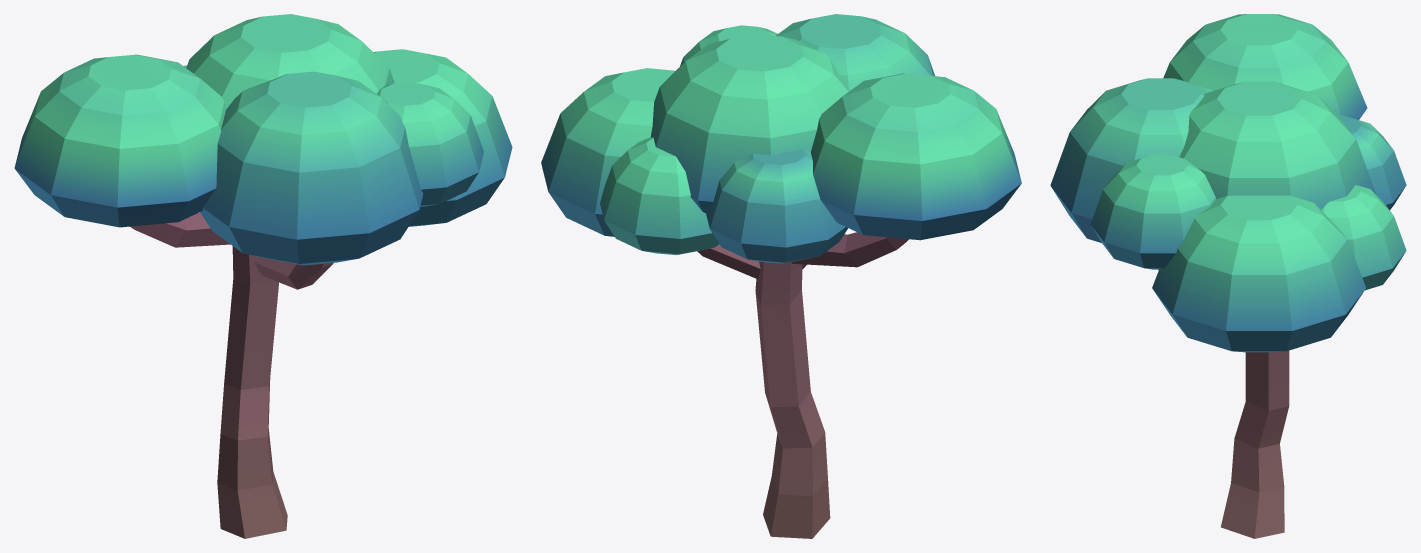
Rendered from pretty_big_tree_5.gltf.
The picture shows the model from 3 angles, left to right: view 1: azimuth 30°, elevation 25°; view 2: azimuth 150°, elevation 25°; view 3: azimuth 270°, elevation 25°; orthographic projection. The views are drawn at different scales.
Parts seen in each view (by area): view 1: Object_1; view 2: Object_1; view 3: Object_1.
Part boxes in pixels (box(x1,y1,x2,y2)): Object_1: box(14, 14, 512, 538); Object_1: box(541, 14, 1021, 538); Object_1: box(1050, 14, 1406, 538).
Size of the model in its own units: 15.11 by 15.16 by 10.99.
Materials: 1 (1 with a texture image).
